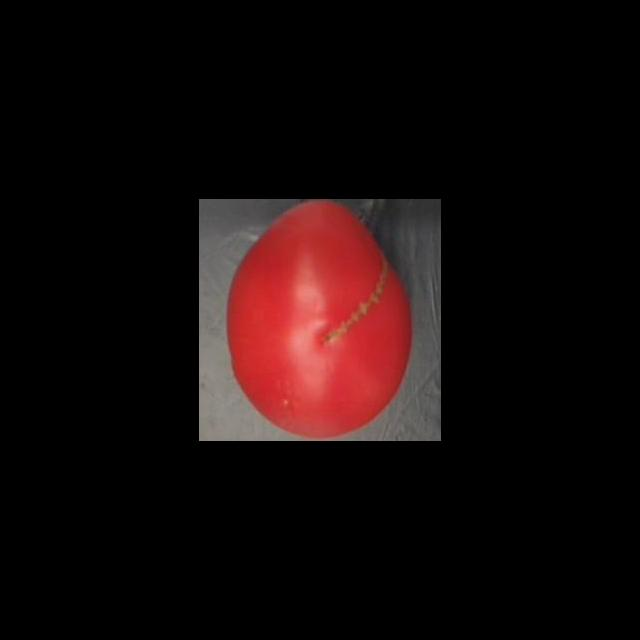tomato: (215, 199, 417, 437)
